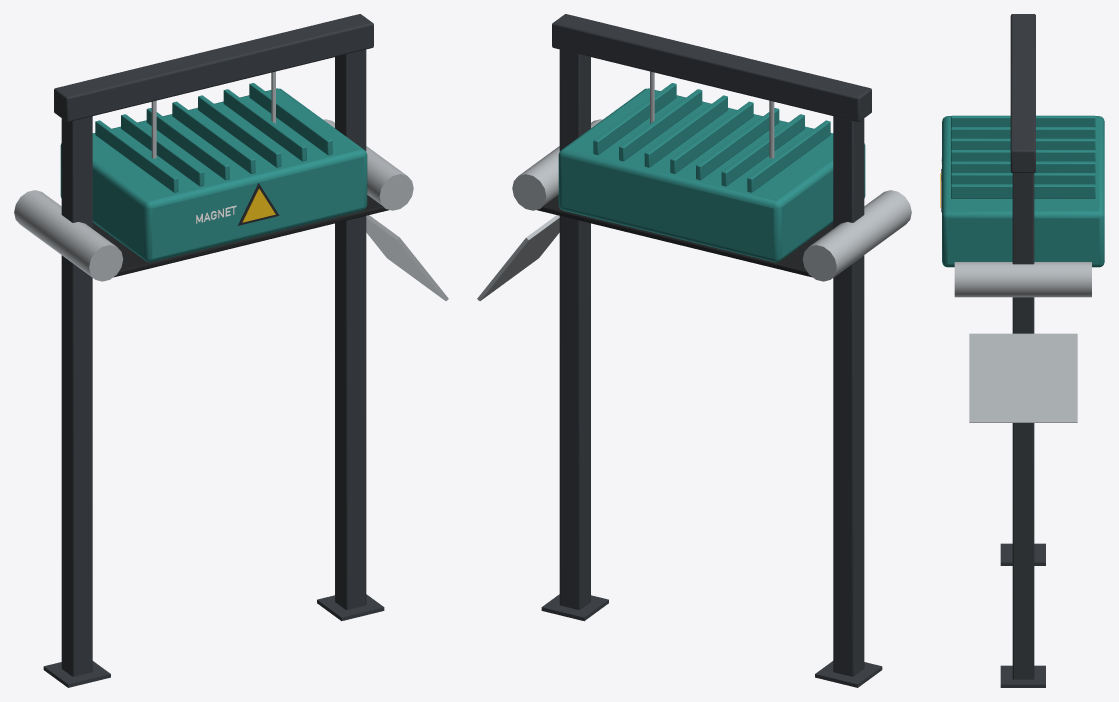
The model's file is overhead_magnet_tall.fbx.
3 renders of one model, left to right at view 1: azimuth 30°, elevation 25°; view 2: azimuth 150°, elevation 25°; view 3: azimuth 270°, elevation 25°, orthographic. The views are drawn at different scales.
Parts seen in each view (by area): view 1: overhead_magnet_tall; view 2: overhead_magnet_tall; view 3: overhead_magnet_tall.
Part boxes in pixels (left/top/right/bottom): overhead_magnet_tall: left=14, top=14, right=448, bottom=687; overhead_magnet_tall: left=477, top=14, right=911, bottom=687; overhead_magnet_tall: left=940, top=14, right=1104, bottom=687.
Size of the model in its own units: 2.15 by 3.27 by 0.91.
